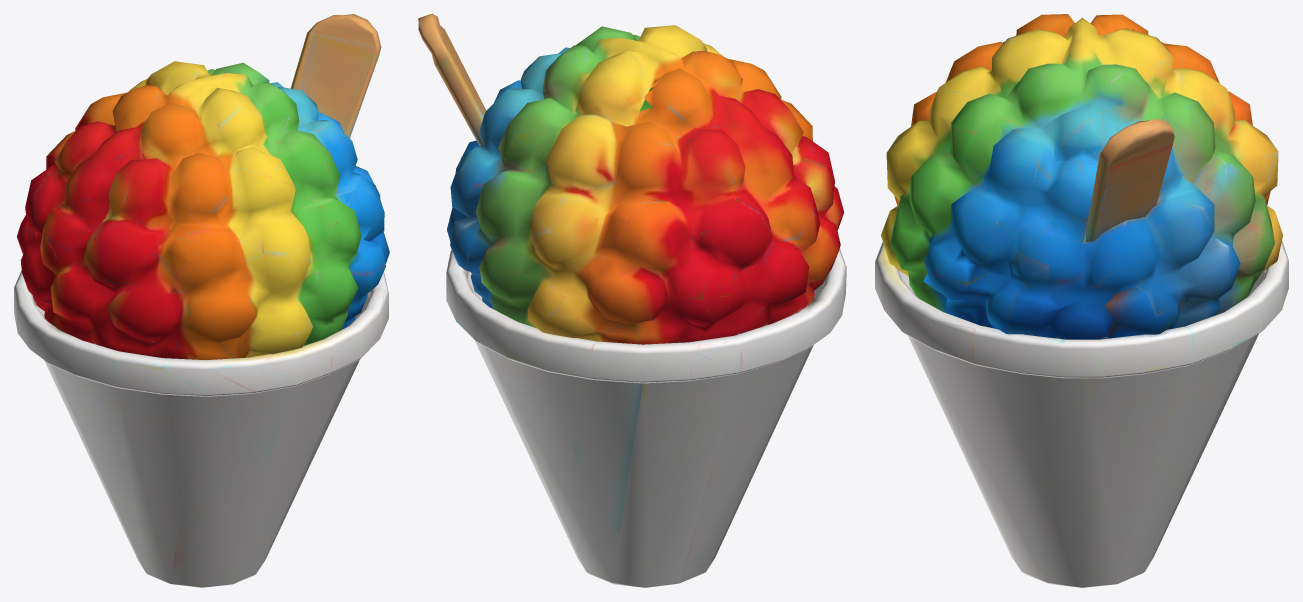
The model's file is art_shave_ice.glb.
The picture shows the model from 3 angles, left to right: view 1: azimuth 30°, elevation 25°; view 2: azimuth 150°, elevation 25°; view 3: azimuth 270°, elevation 25°; orthographic projection. The views are drawn at different scales.
Bounding box in the file's own units: 0.7715 × 1 × 0.7051.
1 material, 1 textured.
